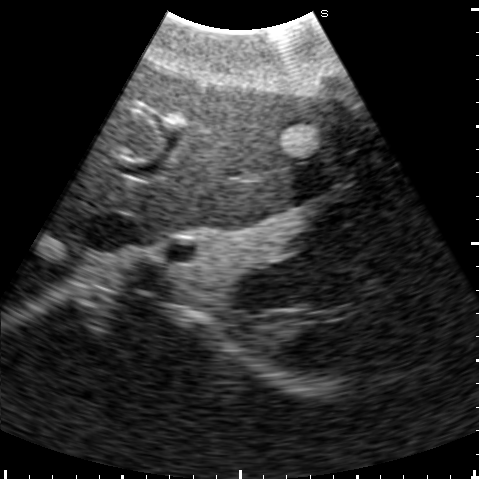IVC: (77, 212, 142, 252)
S1: (129, 184, 193, 240)
S2: (153, 146, 390, 232)
S3: (160, 82, 382, 196)
Tumor: (279, 123, 320, 158)
